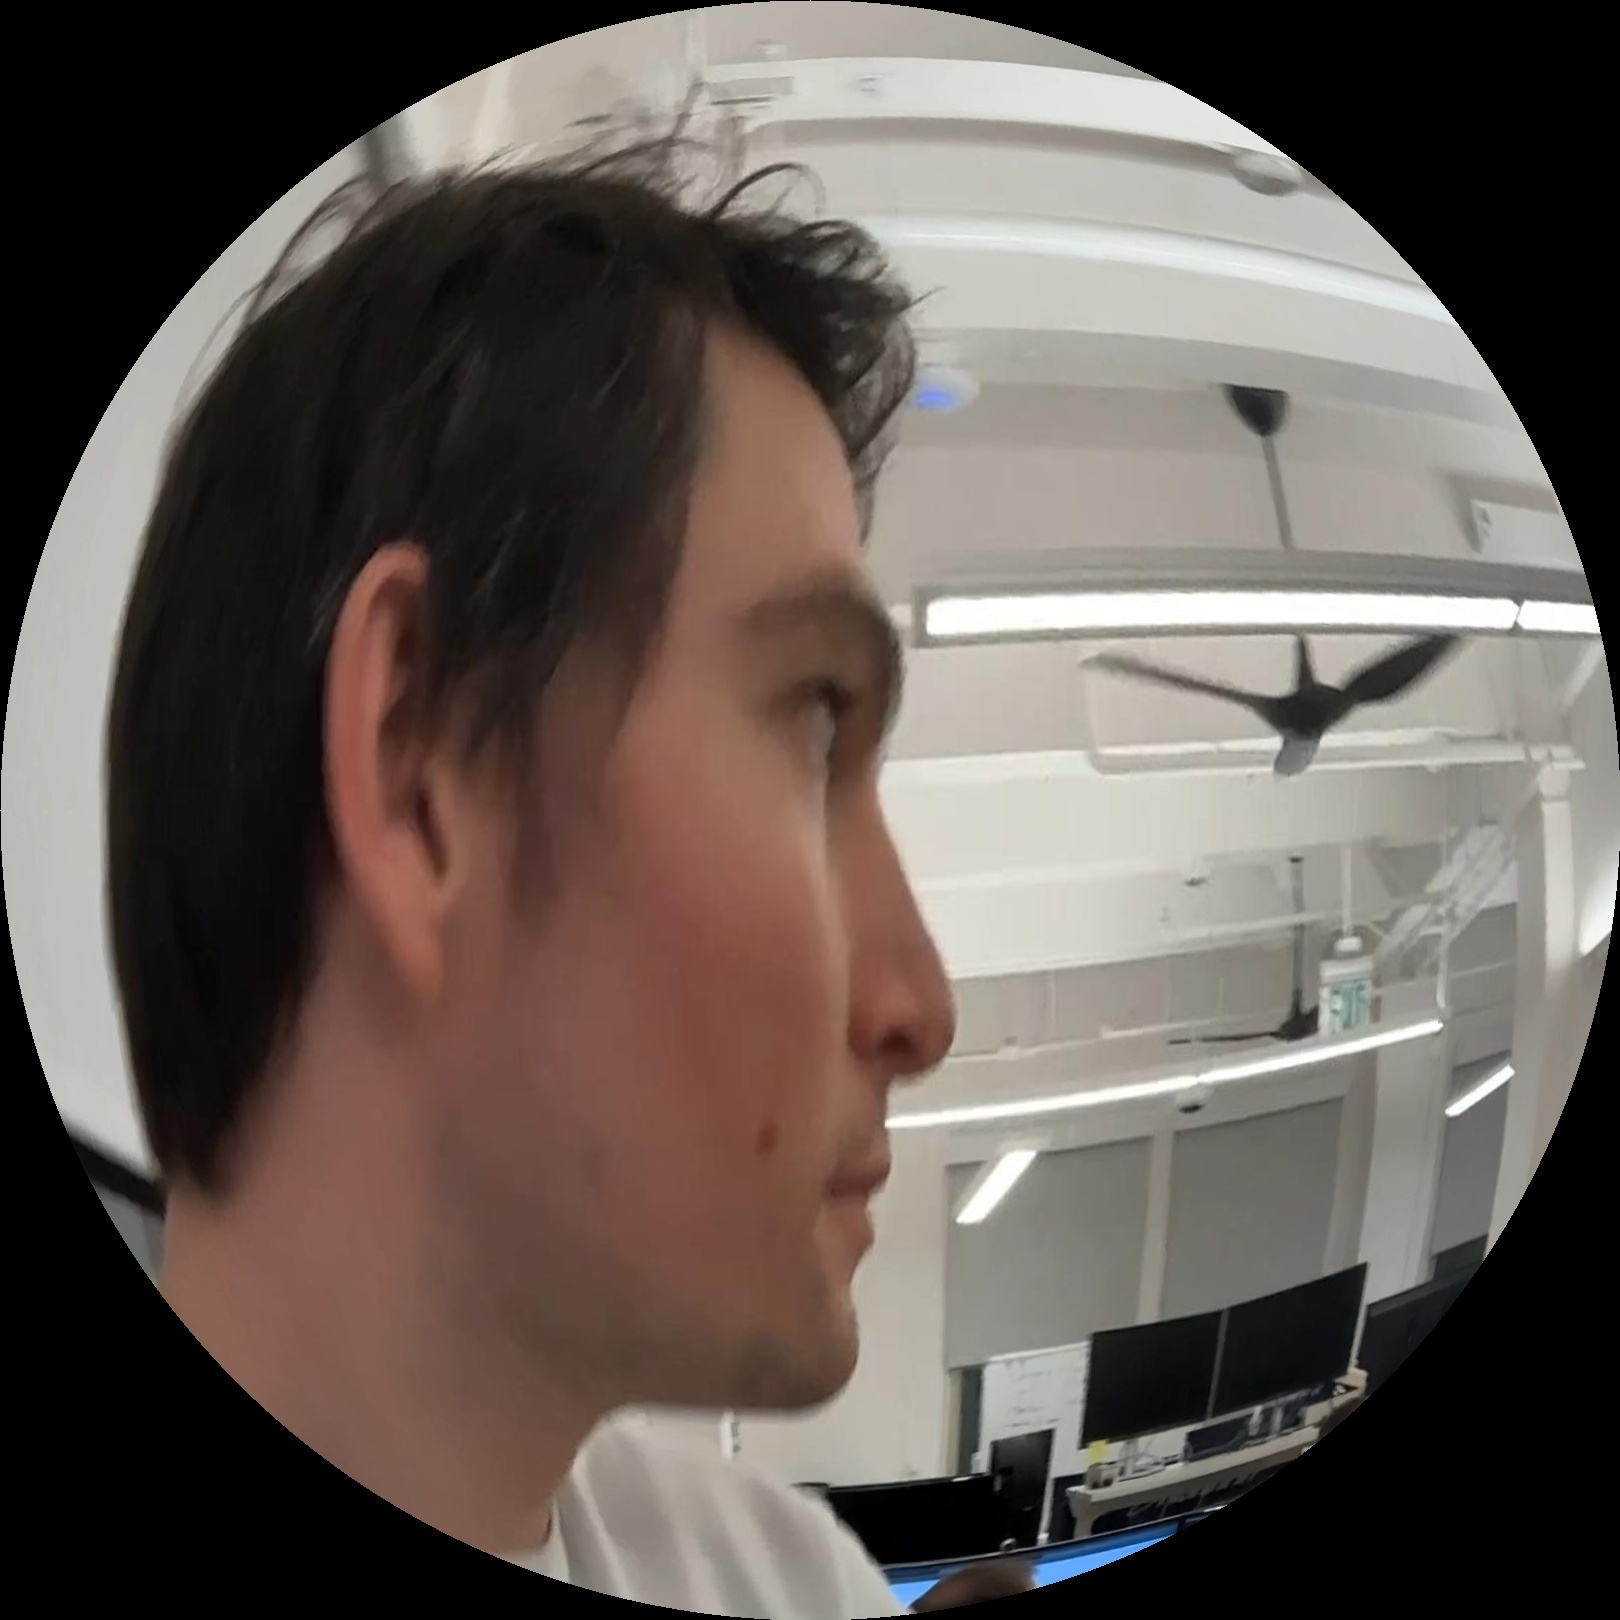face: (321, 344, 950, 1391)
